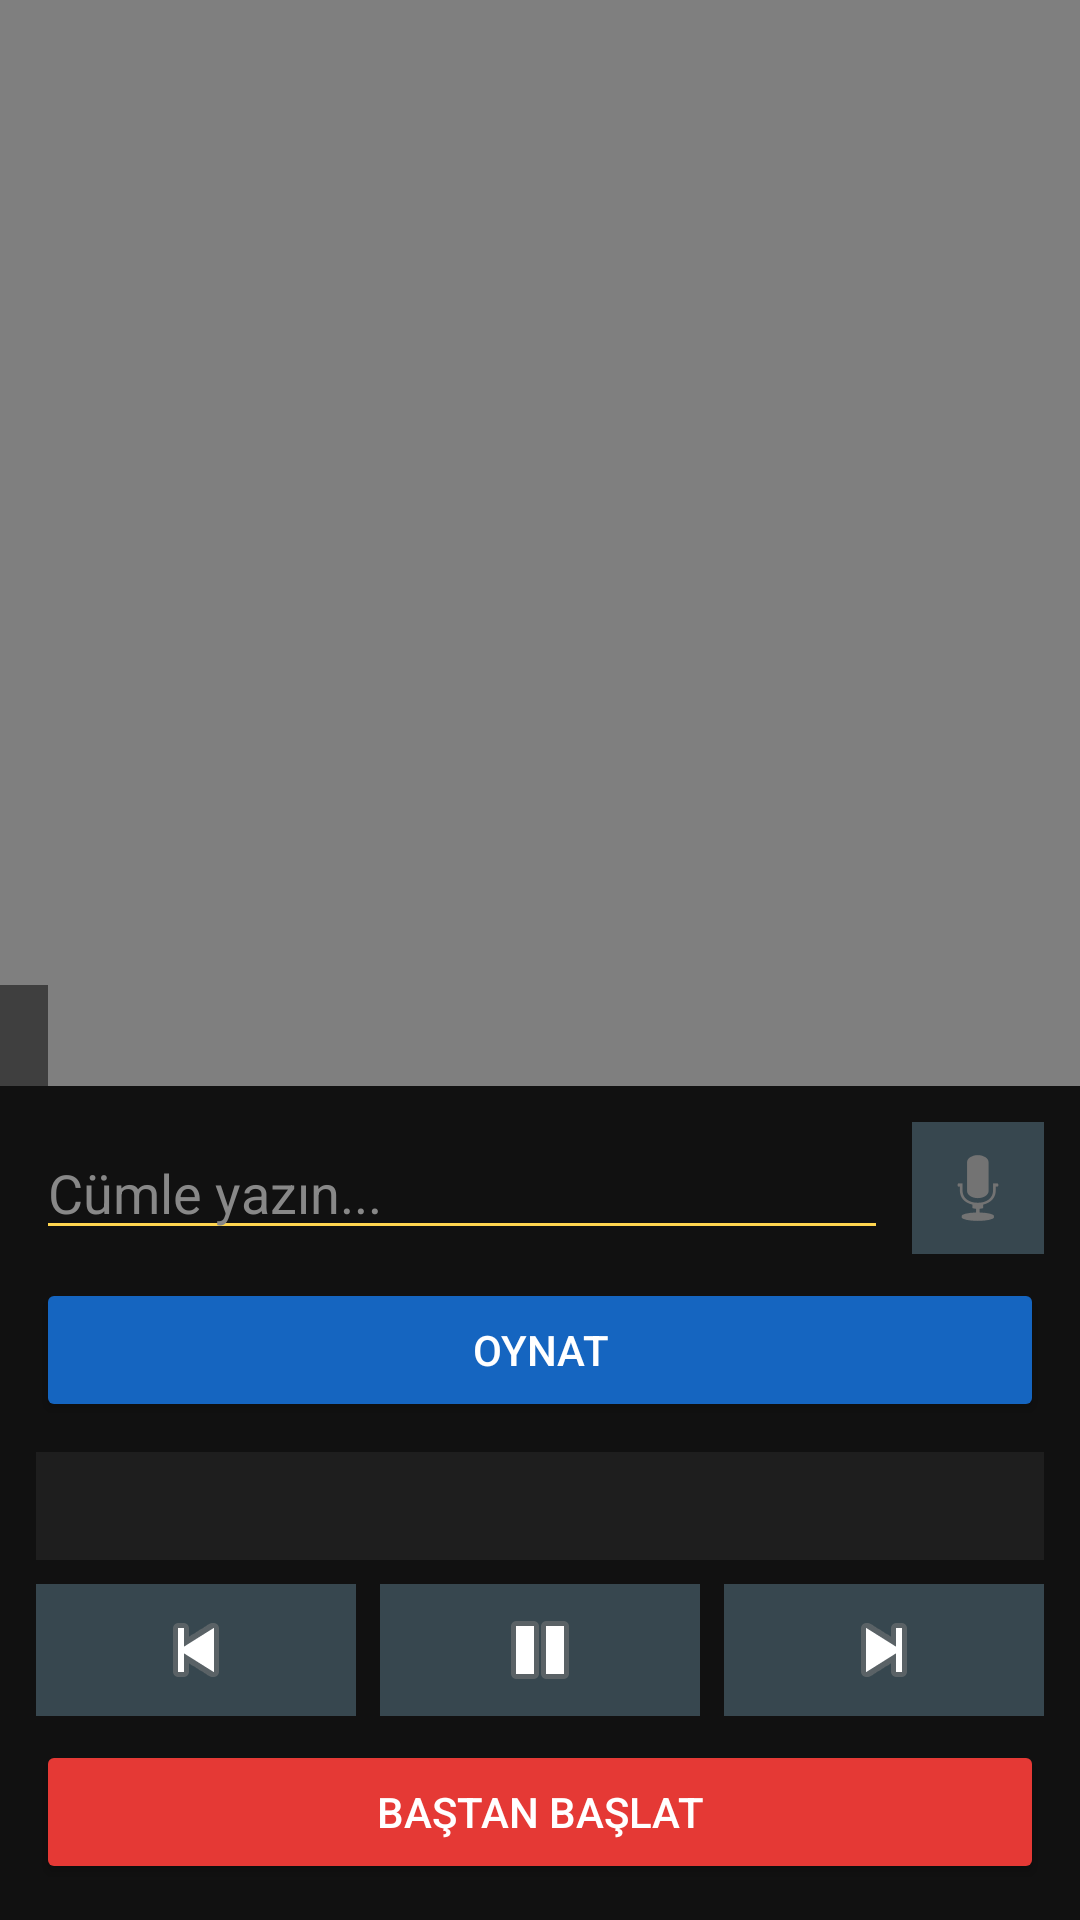

Icon bounding boxes for this 1080w x 1920h phone screenshot, format (x1, y1, x2, y2):
Mikrofon: (912, 1122, 1044, 1254)
Oynat/Duraklat: (380, 1584, 700, 1716)
Sonraki: (724, 1584, 1044, 1716)
Önceki: (36, 1584, 356, 1716)
